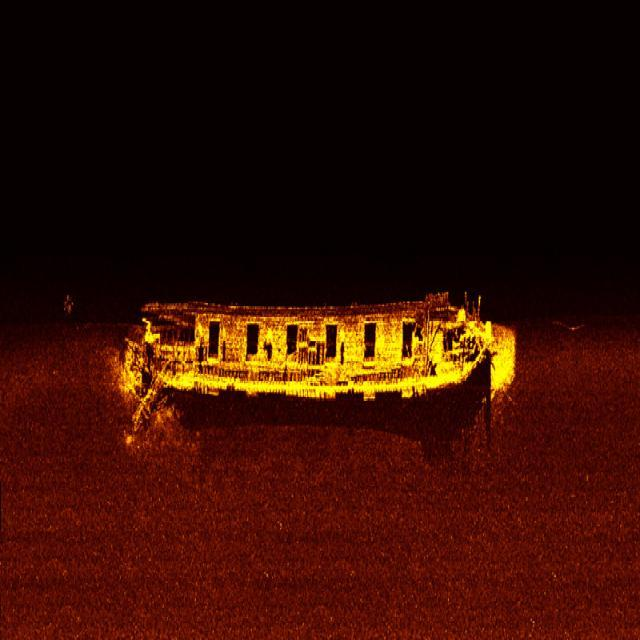shipwreck: (126, 289, 516, 423)
